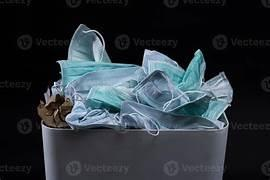Mask: (120, 101, 217, 134), (64, 66, 144, 99), (133, 70, 188, 109), (57, 60, 137, 86), (68, 24, 110, 61), (65, 101, 120, 128), (201, 72, 232, 119), (142, 50, 184, 84), (85, 86, 135, 111), (178, 50, 205, 90), (166, 91, 210, 115), (201, 72, 232, 102), (202, 100, 229, 128)
